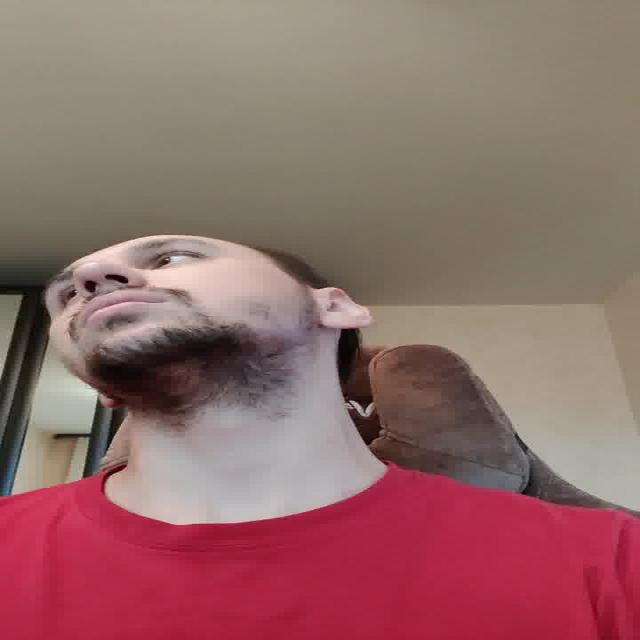earlobe: (321, 316, 374, 330), (97, 394, 126, 411)
eye: (144, 252, 204, 268), (53, 287, 78, 305)
nose: (75, 283, 150, 298)
wholeear: (315, 287, 372, 331)
